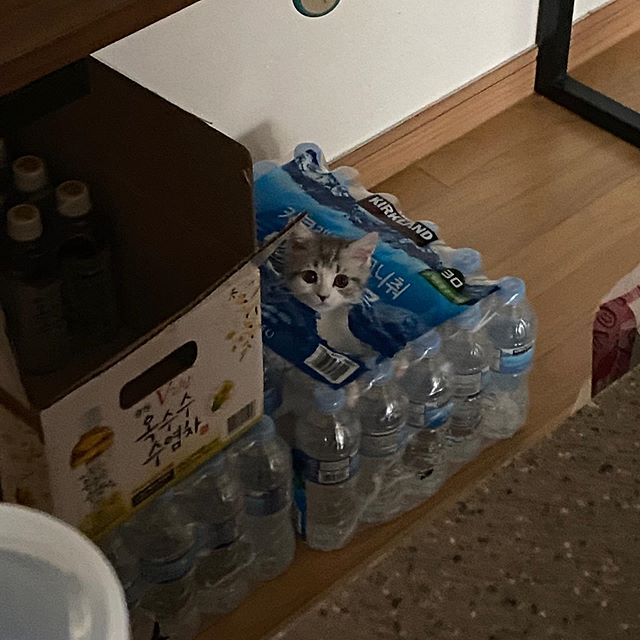cat: (279, 217, 381, 318)
